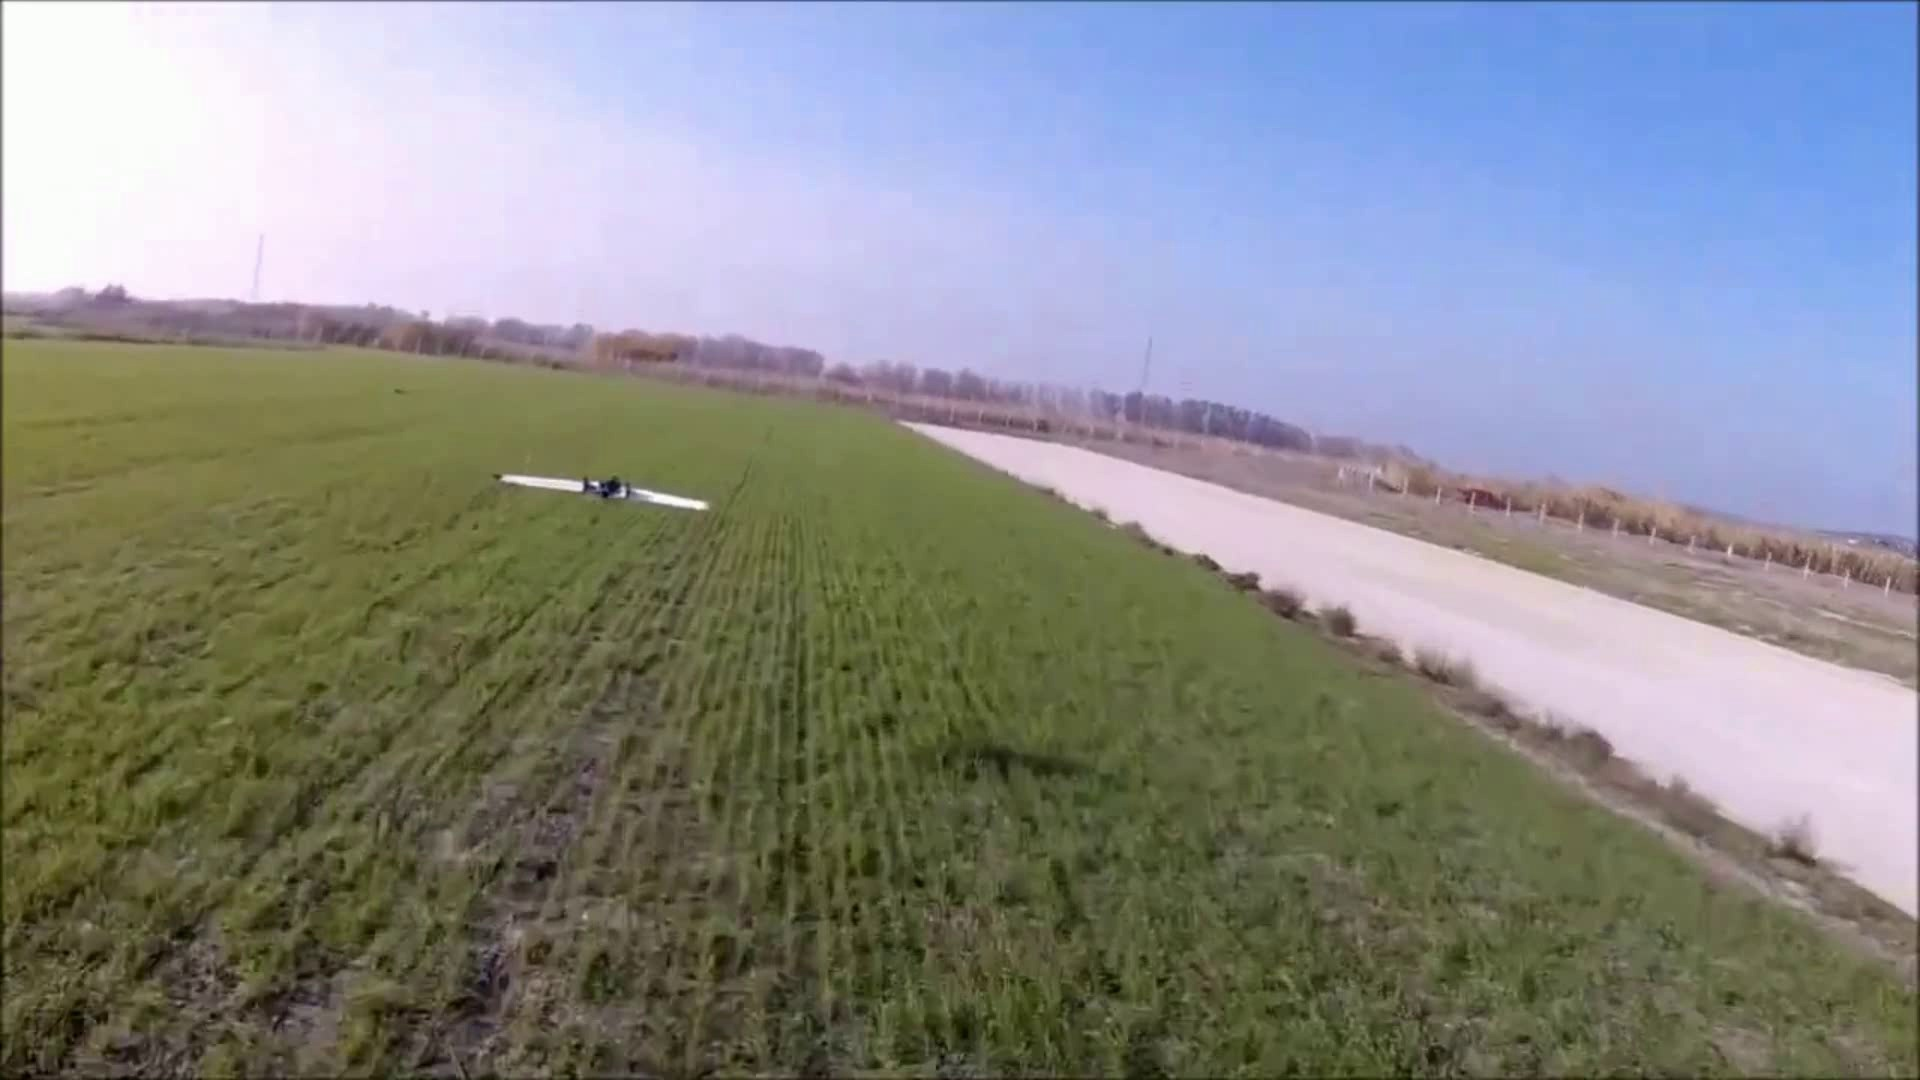airplane: (498, 465, 711, 521)
